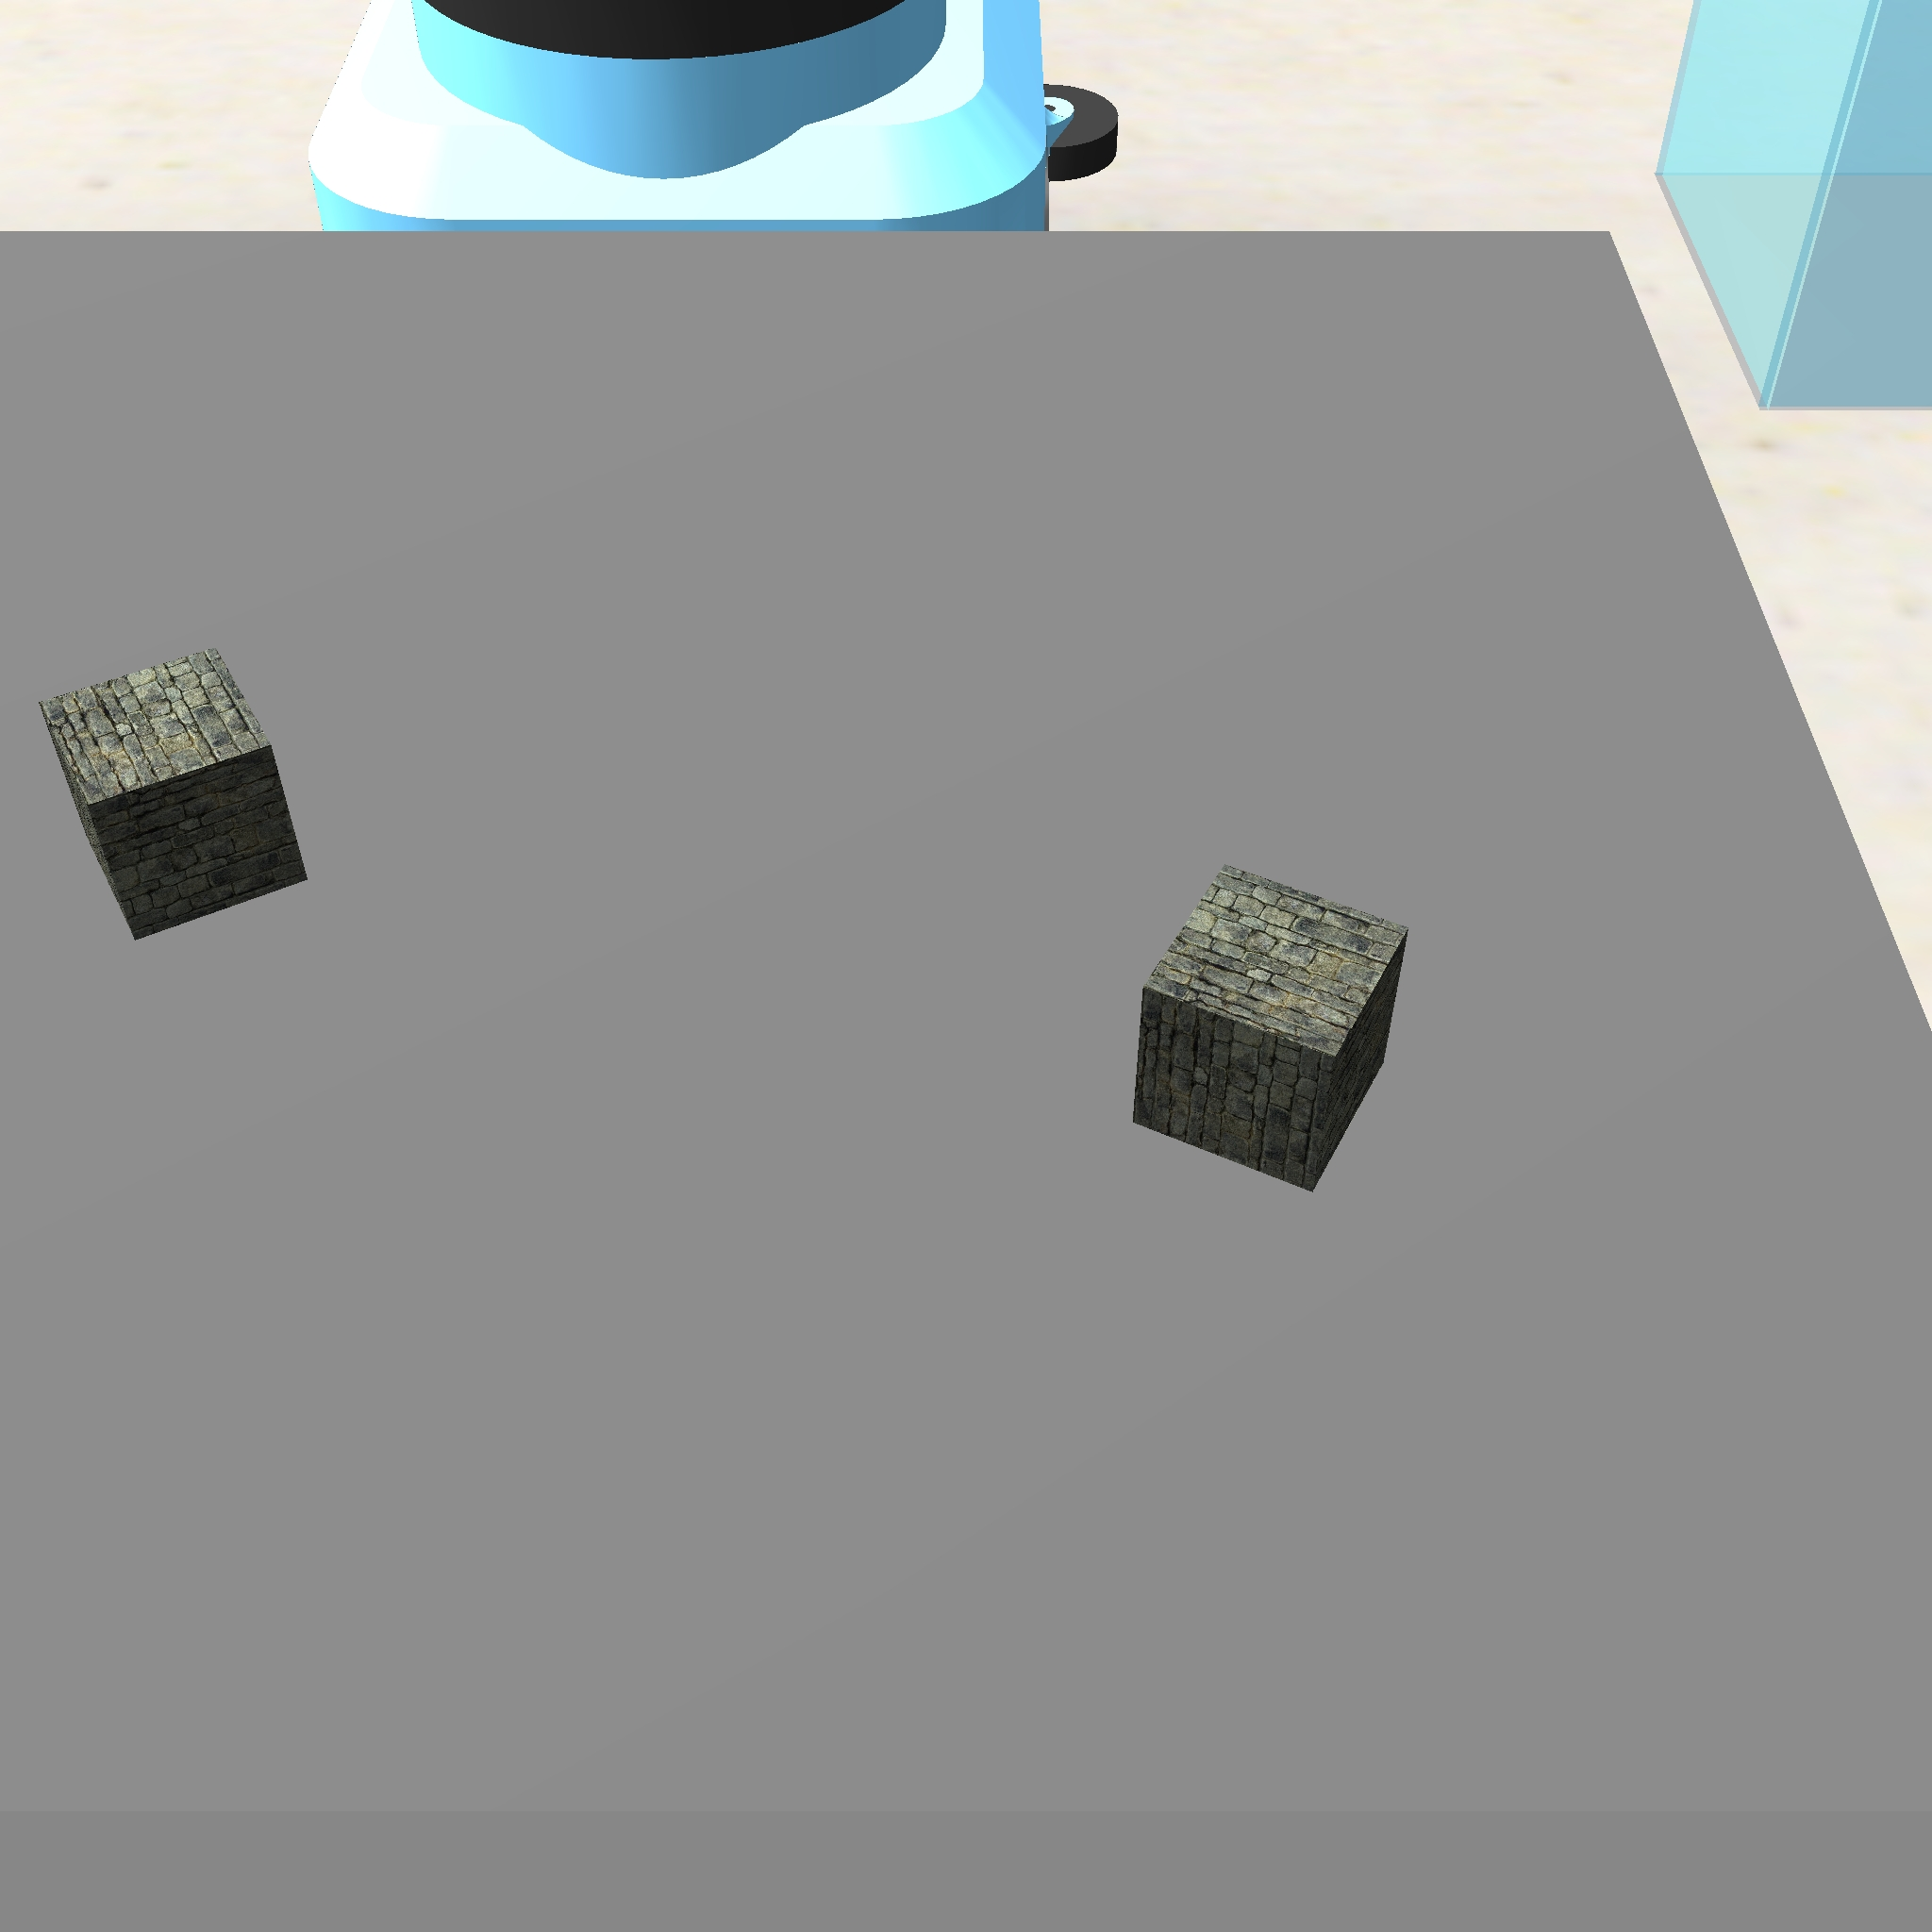cube: (1122, 858, 1414, 1200), (32, 639, 320, 950)
